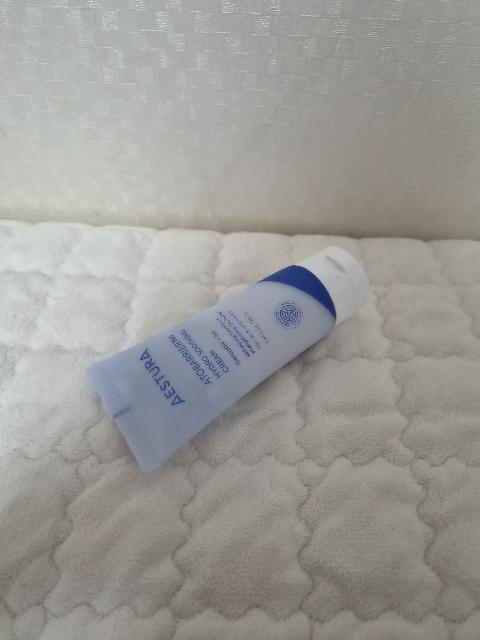handcream: (86, 246, 370, 473)
